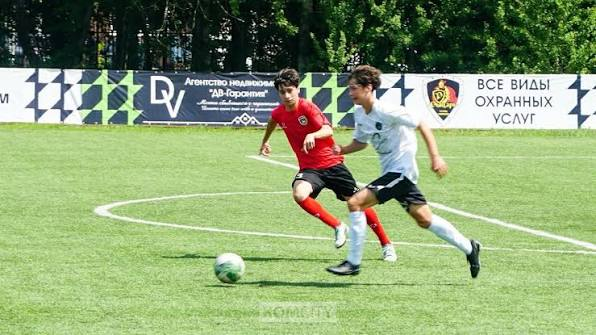ball: (214, 253, 245, 284)
player: (326, 65, 482, 280), (257, 68, 398, 259)
